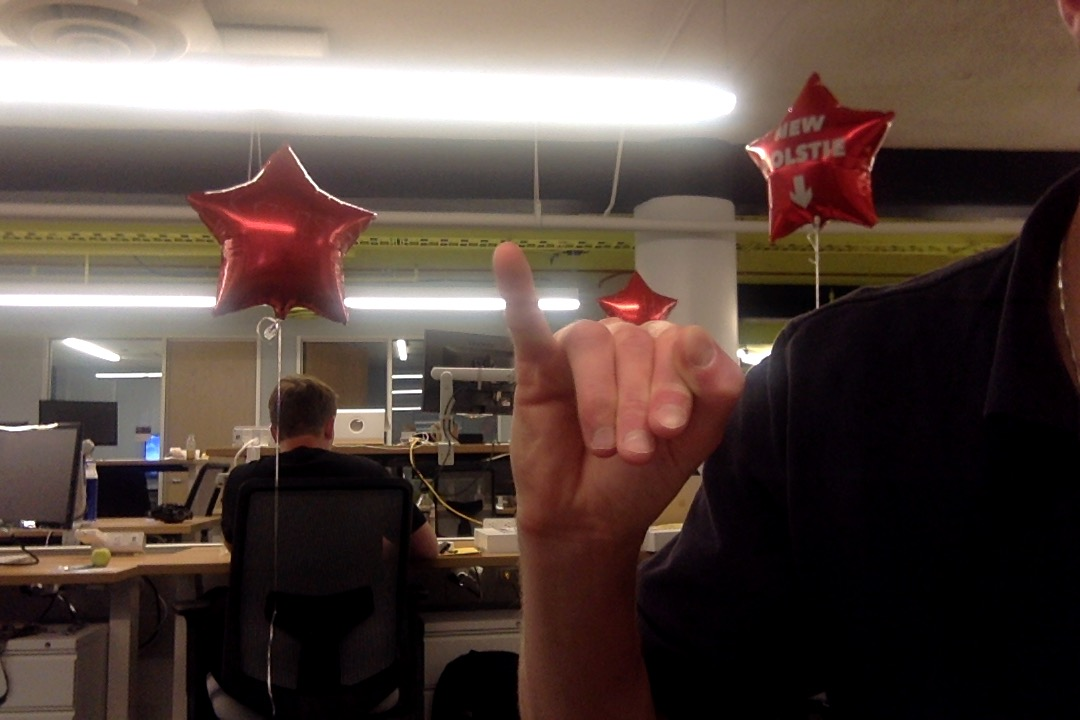i: (487, 237, 752, 564)
